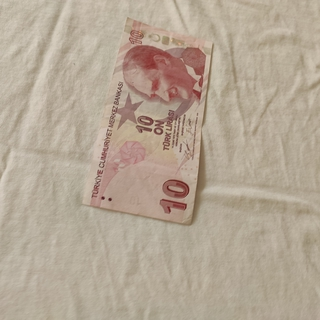10TLFront: (78, 15, 215, 226)
